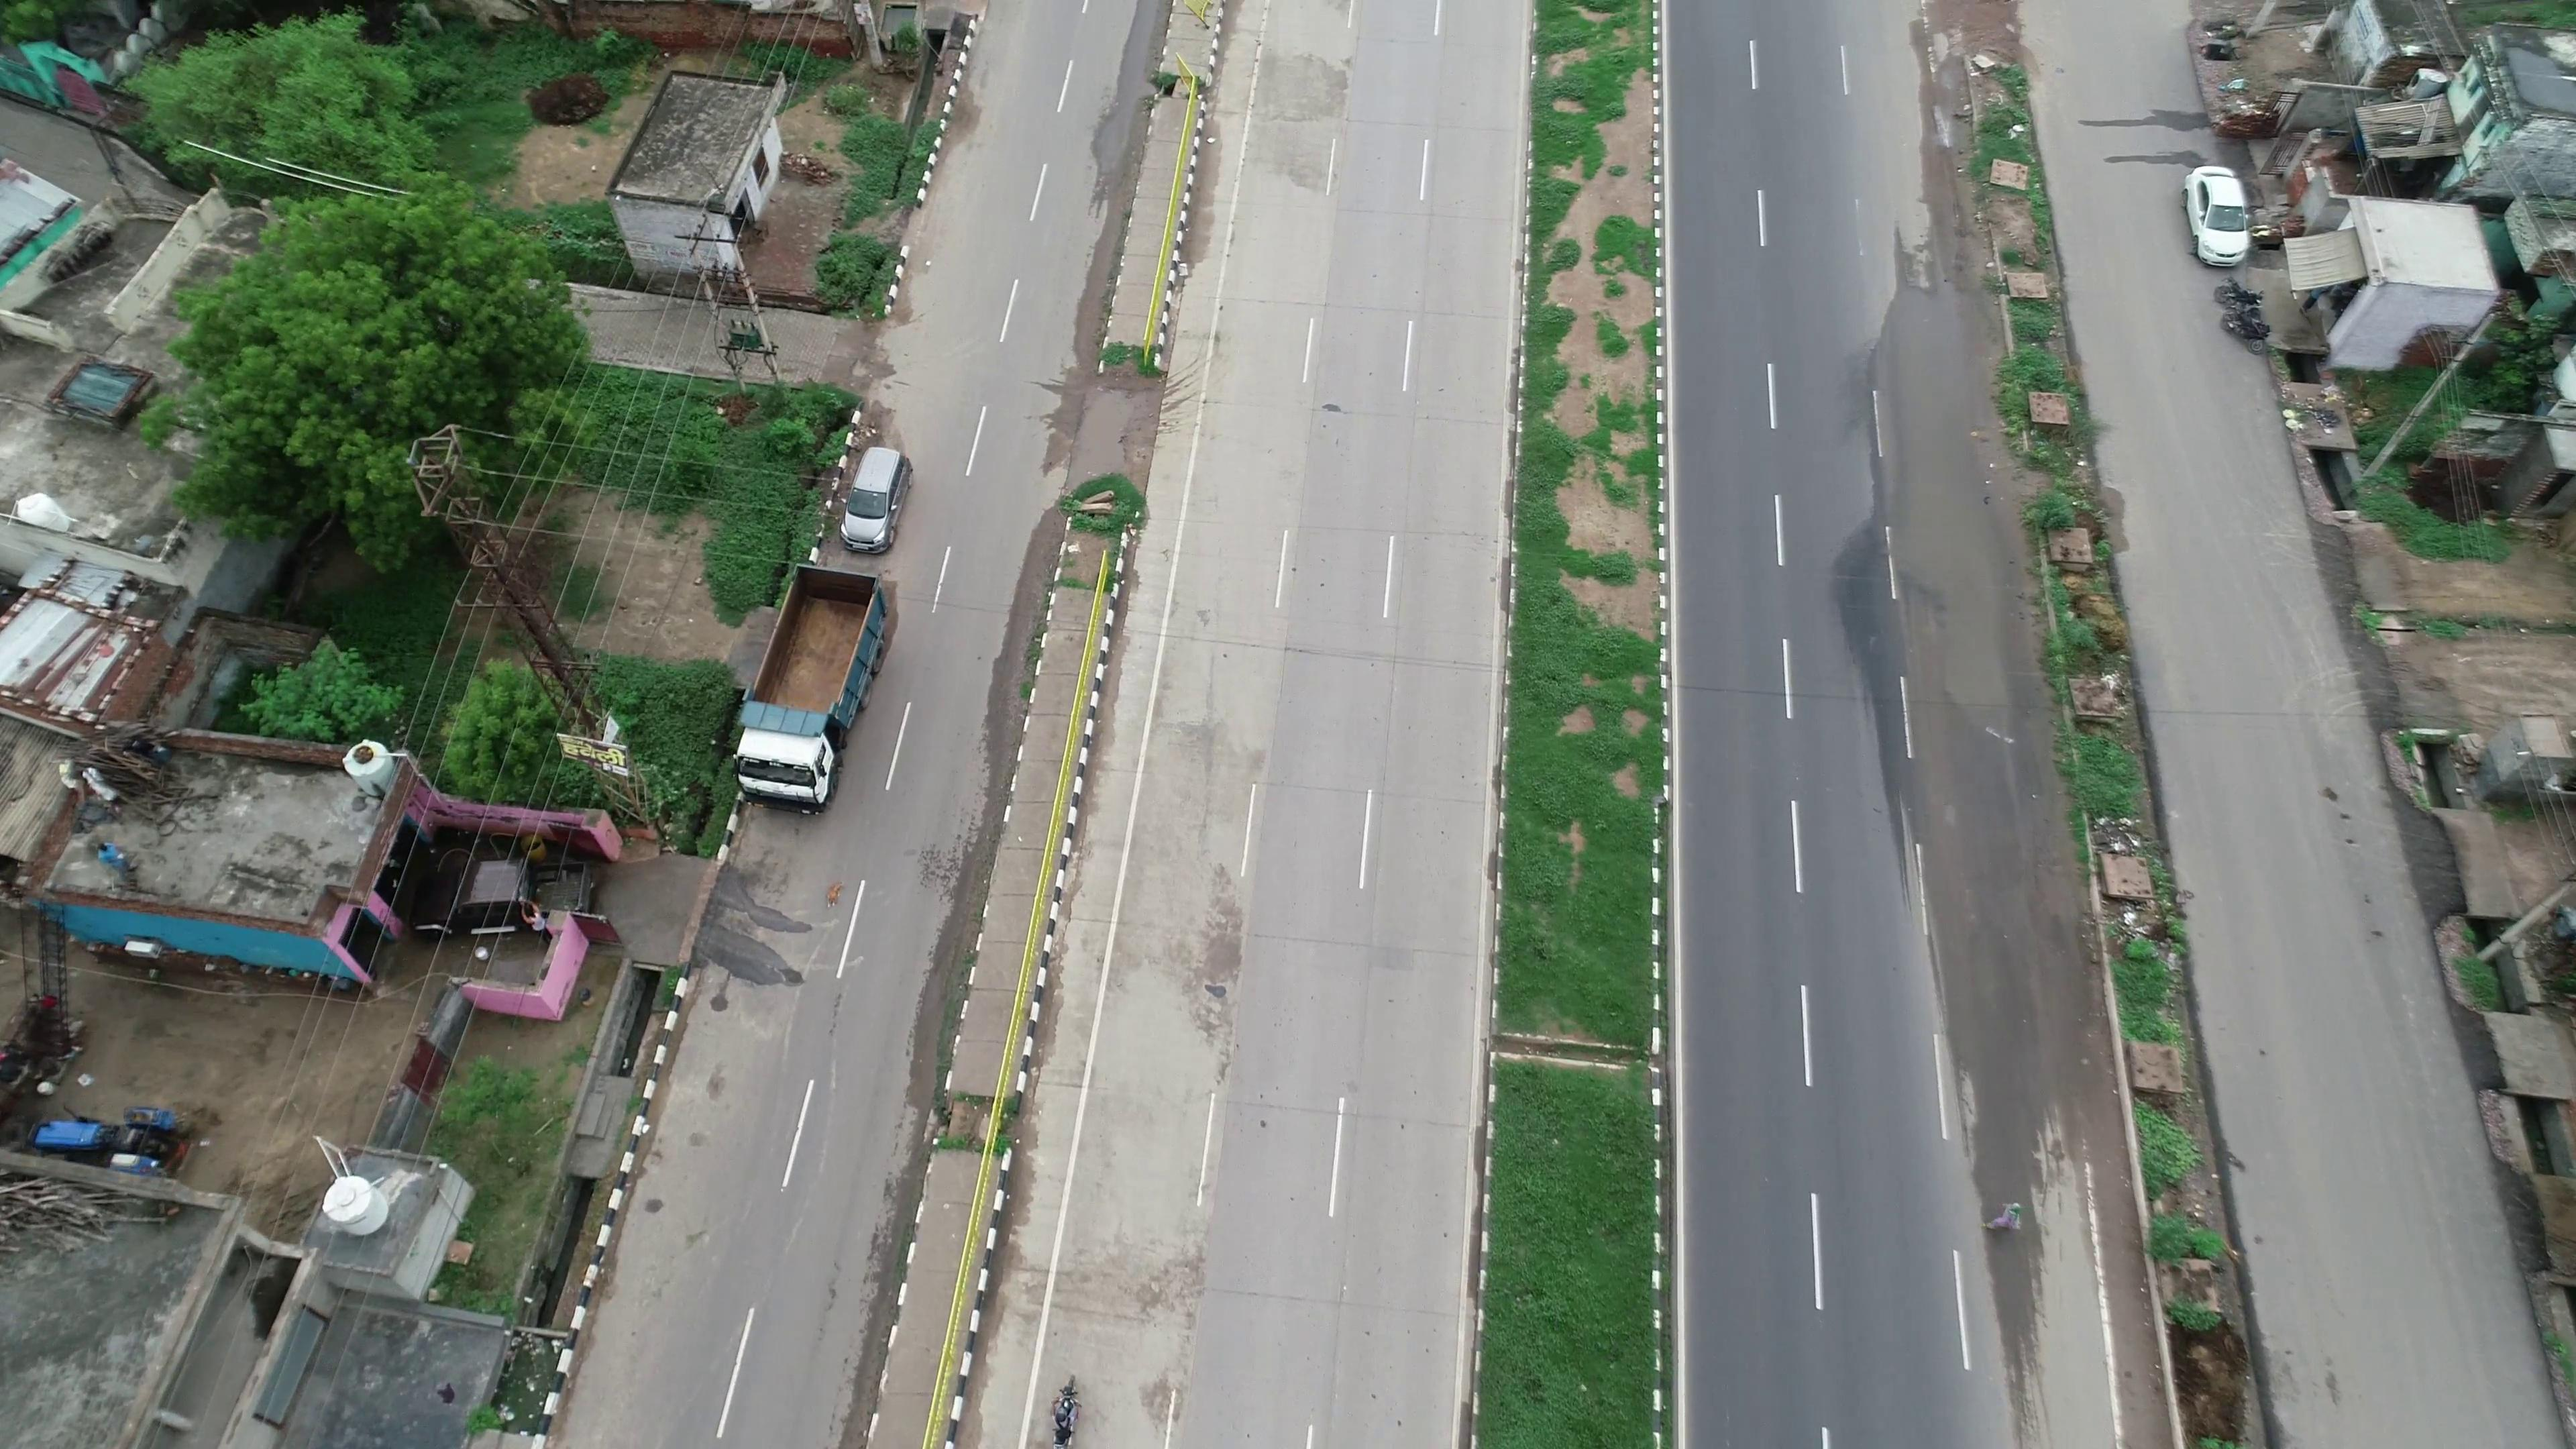Waterlogging: (1840, 239, 2010, 754)
